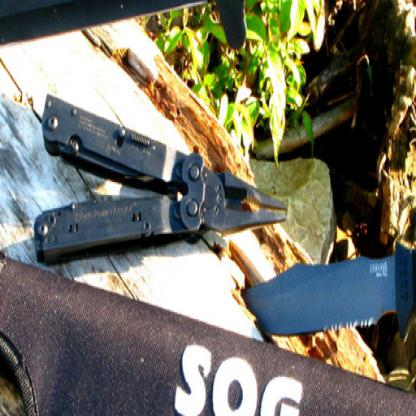knife: (239, 218, 415, 338)
